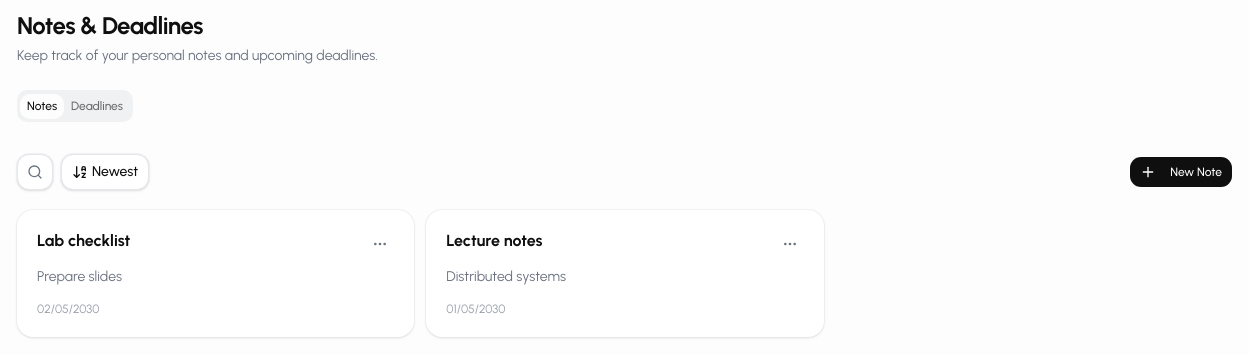
Scenario: notes and deadlines route › filters notes with the search toolbar
This screenshot has width=1249, height=355.
Click the button named "Open notes search" at (35, 172), box x1=17 y1=154 x2=53 y2=190
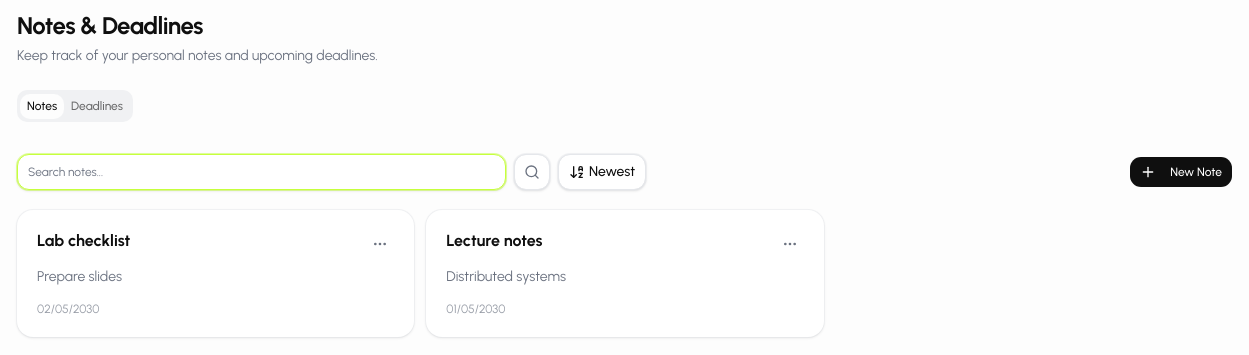
Type "lab" into the field with placeholder "Search notes..." at (262, 172), box x1=17 y1=154 x2=506 y2=190
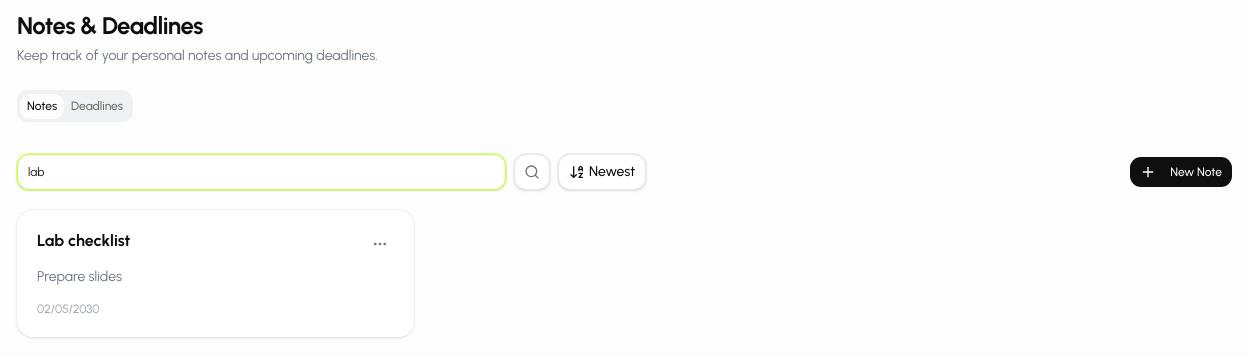
Check: the heading "Lab checklist" is shown, box x1=37 y1=230 x2=130 y2=252
Check: the heading "Lecture notes" is gone
